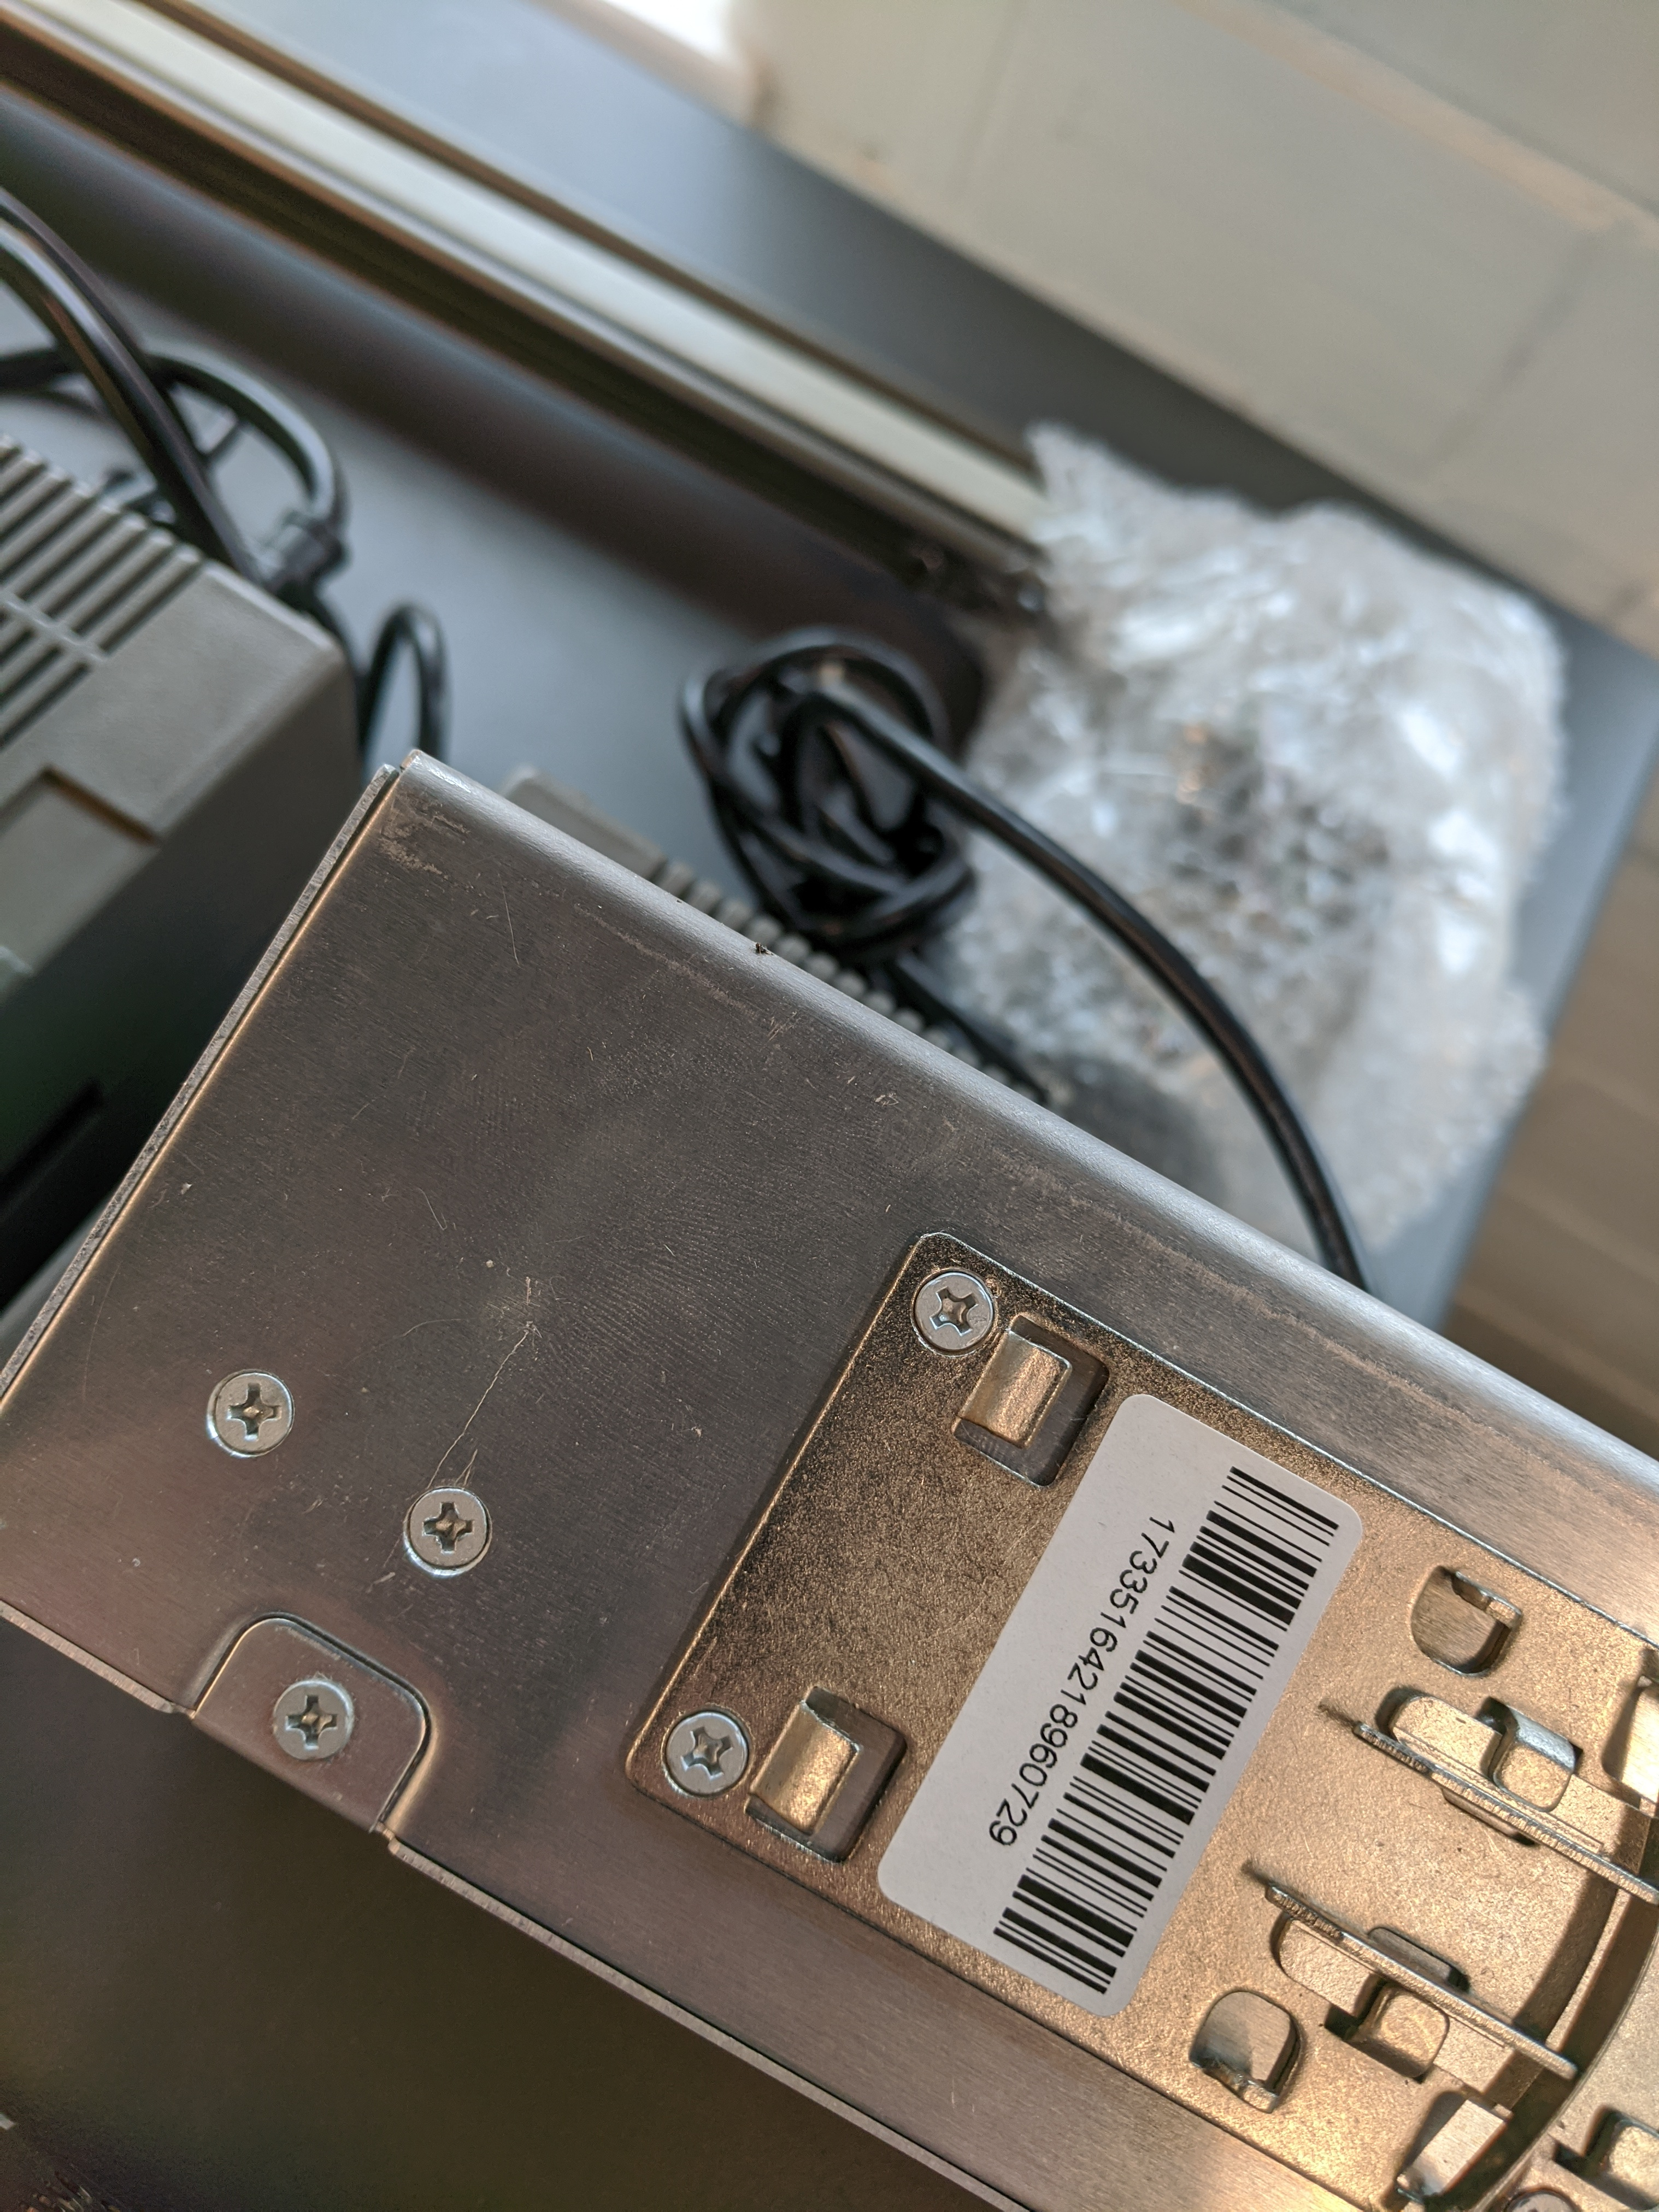cross_recessed_screw: (188, 1352, 308, 1461), (389, 1470, 488, 1569), (270, 1663, 355, 1775), (896, 1251, 995, 1346), (657, 1703, 744, 1791)
